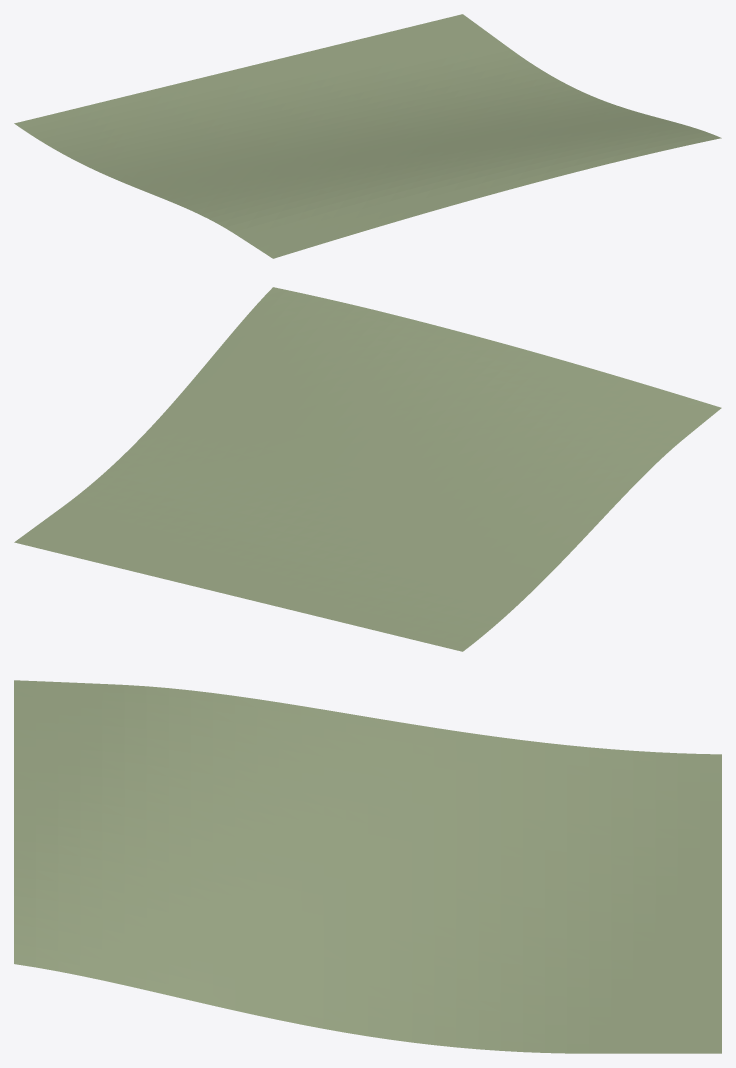
File: valley-10-8.glb
The picture shows the model from 3 angles, top to bottom: view 1: azimuth 30°, elevation 25°; view 2: azimuth 150°, elevation 25°; view 3: azimuth 270°, elevation 25°; orthographic projection. The views are drawn at different scales.
Visible parts, largest first — view 1: valley-10-8; view 2: valley-10-8; view 3: valley-10-8.
Boxes of the visible parts, box(x1,y1,x2,y2) form: valley-10-8: box(14, 14, 721, 258); valley-10-8: box(14, 287, 721, 651); valley-10-8: box(14, 680, 721, 1053).
Bounding box in the file's own units: 256 × 36.79 × 256.
